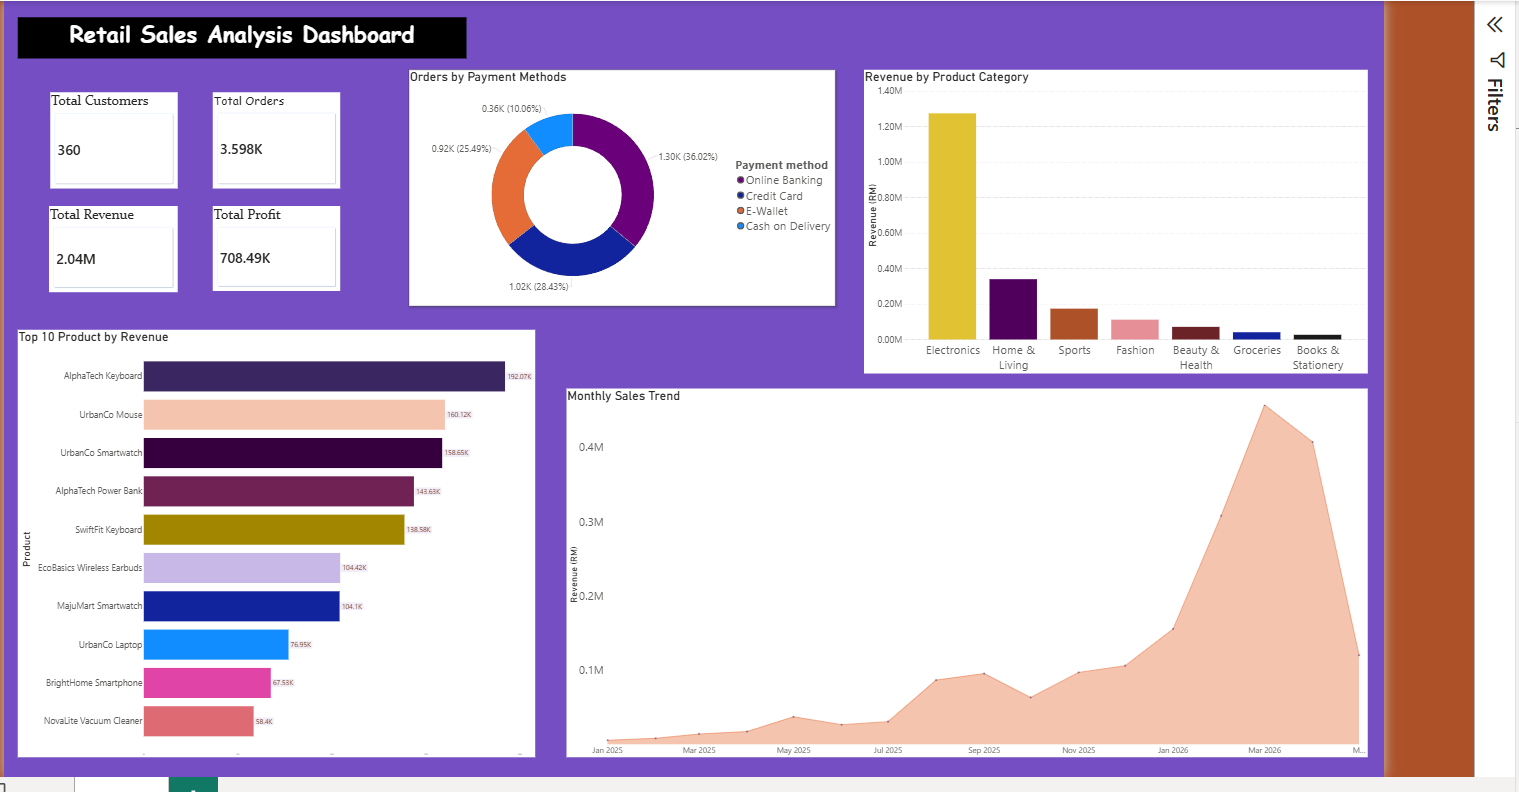

The dashboard page shown, as its layout file describes it:
{"tool":"powerbi","page":{"name":"Page 1","canvas":[8000,4500],"ordinal":0},"visuals":[{"type":"cardVisual","title":"Total Revenue","fields":{"Data":["Sum(cleaned_sales_dataset_comma.line_revenue)"]},"box":[261,1188.8,746.6,500.2],"z":1},{"type":"cardVisual","title":"Total Profit","fields":{"Data":["Sum(cleaned_sales_dataset_comma.gross_profit)"]},"box":[1210.5,1188.8,739.4,492.9],"z":2},{"type":"cardVisual","title":"Total Orders","fields":{"Data":["cleaned_sales_dataset_comma.Total Orders"]},"box":[1210.5,529.2,739.4,558.2],"z":3},{"type":"cardVisual","title":"Total Customers","fields":{"Data":["cleaned_sales_dataset_comma.Total Customers"]},"box":[268.2,529.2,739.4,558.2],"z":4},{"type":"lineChart","title":"Monthly Sales Trend","fields":{"Y":["Sum(cleaned_sales_dataset_comma.line_revenue)"],"Category":["cleaned_sales_dataset_comma.order_date.Variation.Date Hierarchy.Year","cleaned_sales_dataset_comma.order_date.Variation.Date Hierarchy.Month"]},"box":[3261.9,2247.1,4646.4,2138.4],"z":5},{"type":"clusteredBarChart","title":"Top 10 Products by Revenue","fields":{"Category":["cleaned_sales_dataset_comma.product_name"],"Y":["Sum(cleaned_sales_dataset_comma.line_revenue)"]},"box":[79.7,1906.4,3001,2479.1],"z":6},{"type":"donutChart","title":"Orders by Payment Methods","fields":{"Category":["cleaned_sales_dataset_comma.payment_method"],"Y":["cleaned_sales_dataset_comma.Total Orders"]},"box":[2348.6,398.7,2471.8,1370],"z":7},{"type":"clusteredColumnChart","title":"Revenue by Product Category","fields":{"Category":["cleaned_sales_dataset_comma.category"],"Y":["Sum(cleaned_sales_dataset_comma.line_revenue)"]},"box":[4987.1,398.7,2921.2,1761.4],"z":8},{"type":"textbox","box":[79.7,94.2,2602.3,239.2],"z":9}]}

Visuals, with their boxes in screenshot pixels (x1, y1, x2, y2):
"Total Revenue" cardVisual: pyautogui.locateOnScreen(41, 202, 171, 289)
"Total Profit" cardVisual: pyautogui.locateOnScreen(206, 202, 334, 288)
"Total Orders" cardVisual: pyautogui.locateOnScreen(206, 88, 334, 185)
"Total Customers" cardVisual: pyautogui.locateOnScreen(43, 88, 171, 185)
"Monthly Sales Trend" lineChart: pyautogui.locateOnScreen(562, 386, 1367, 756)
"Top 10 Products by Revenue" clusteredBarChart: pyautogui.locateOnScreen(10, 327, 530, 756)
"Orders by Payment Methods" donutChart: pyautogui.locateOnScreen(403, 65, 832, 303)
"Revenue by Product Category" clusteredColumnChart: pyautogui.locateOnScreen(861, 65, 1367, 371)
textbox: pyautogui.locateOnScreen(10, 12, 461, 54)
